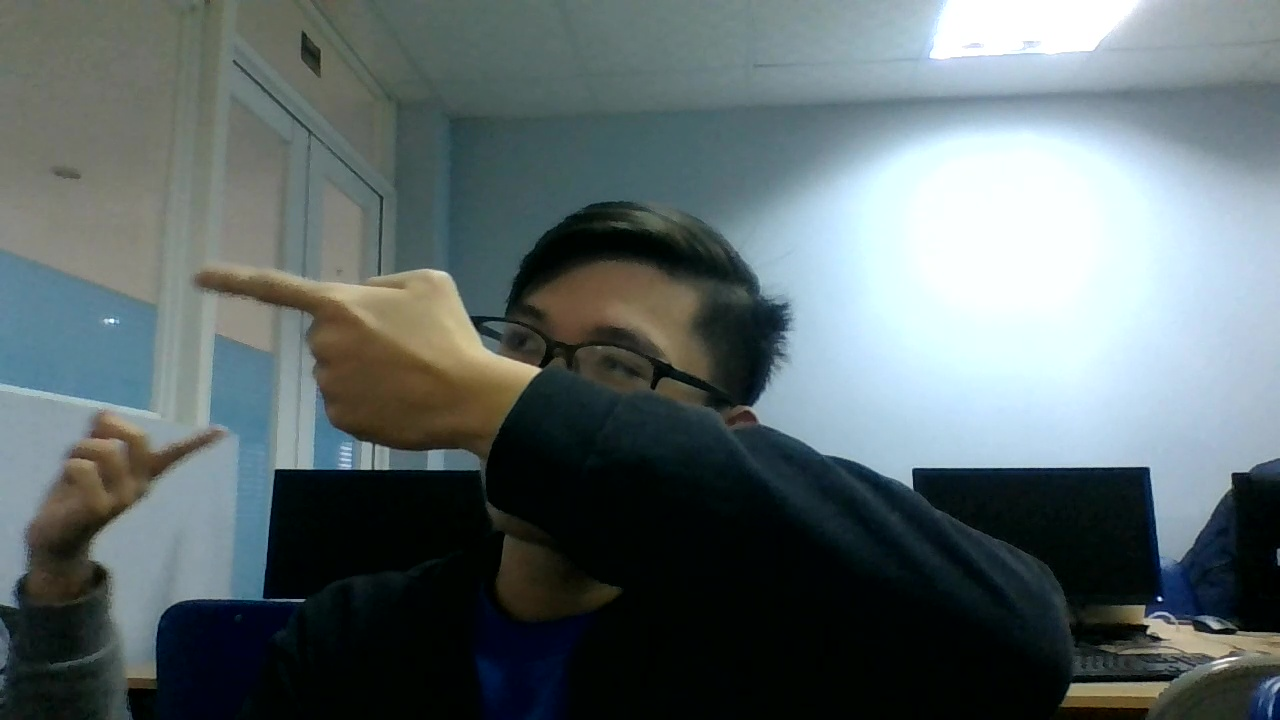right: (190, 254, 484, 454)
